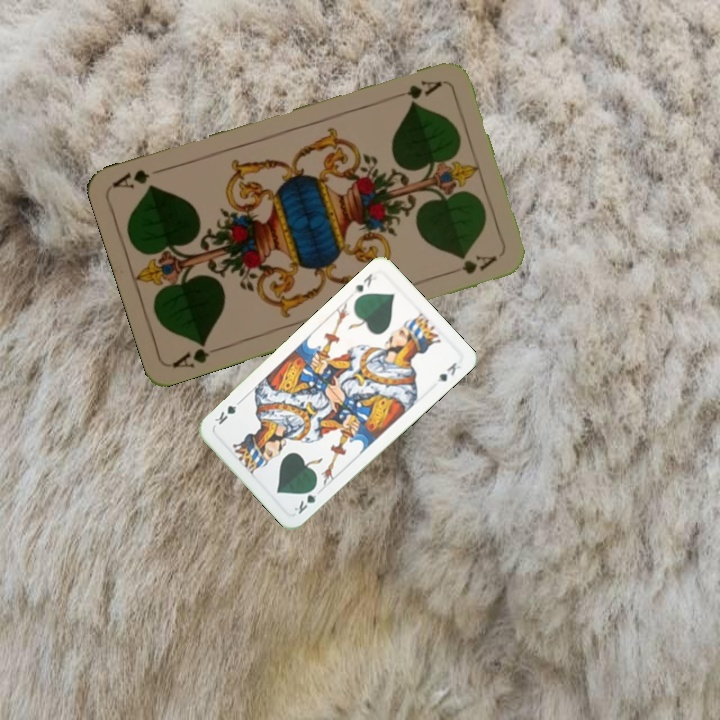GA: (168, 337, 226, 371), (387, 76, 444, 102)
GK: (290, 482, 319, 517), (350, 269, 379, 297)
